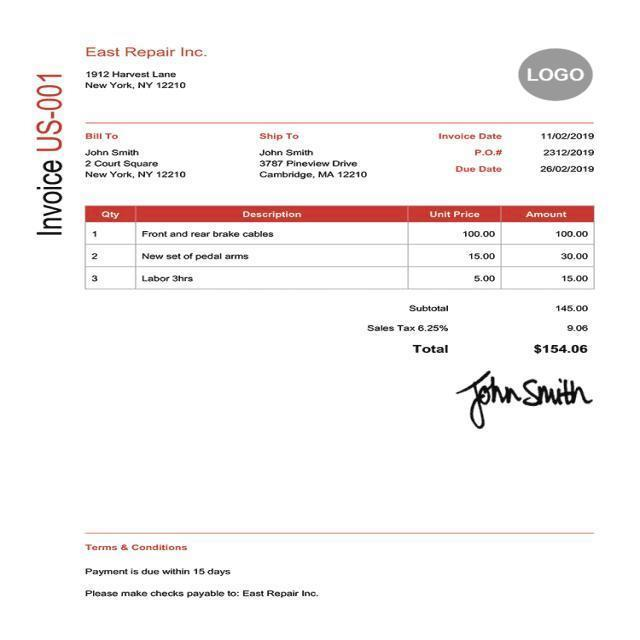paragraph: (78, 538, 330, 606), (362, 298, 598, 355), (451, 364, 599, 433), (433, 128, 600, 180), (254, 126, 370, 184), (81, 43, 210, 93), (79, 127, 193, 182), (33, 70, 67, 237), (522, 65, 594, 85)
table: (84, 204, 593, 288)
